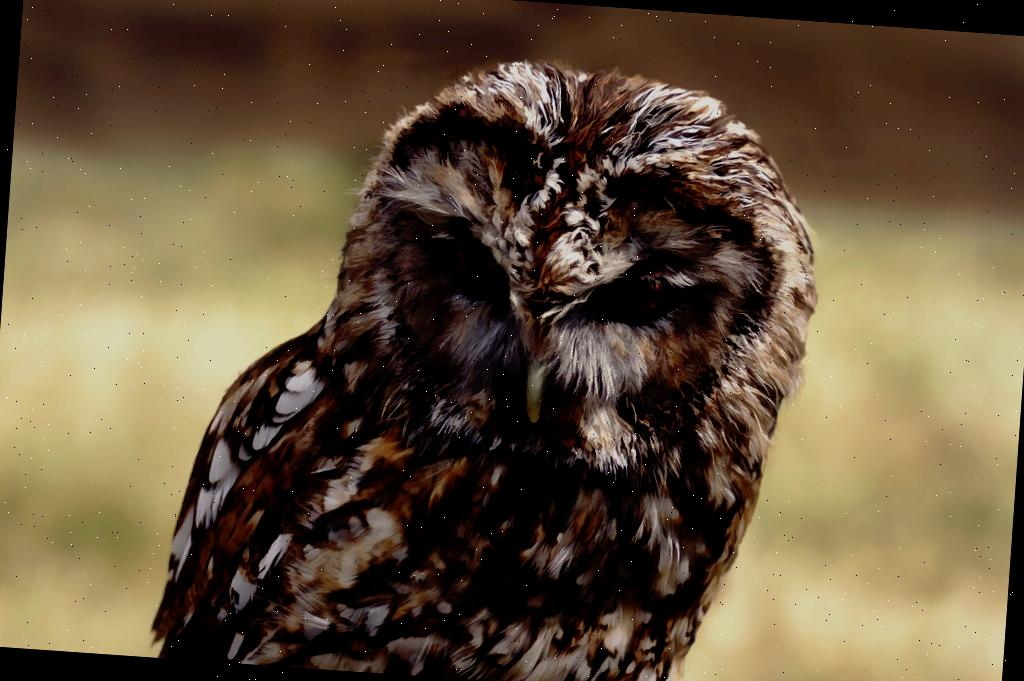Owl: (149, 31, 839, 681)
